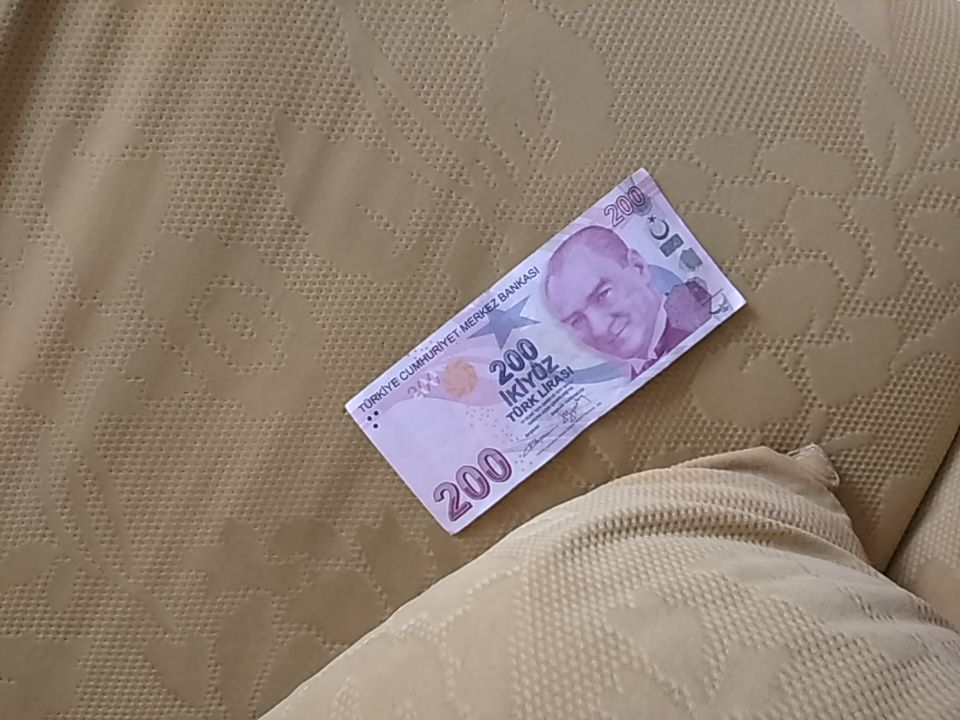200TL: (341, 167, 749, 539)
